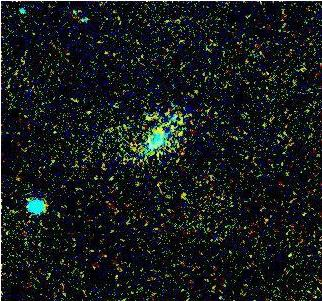star: (145, 111, 175, 141)
